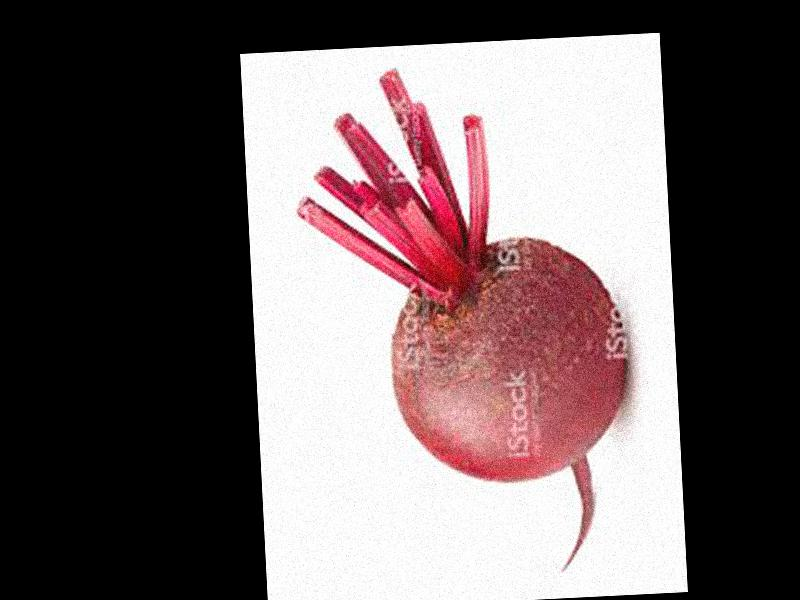Beet: (291, 59, 634, 583)
